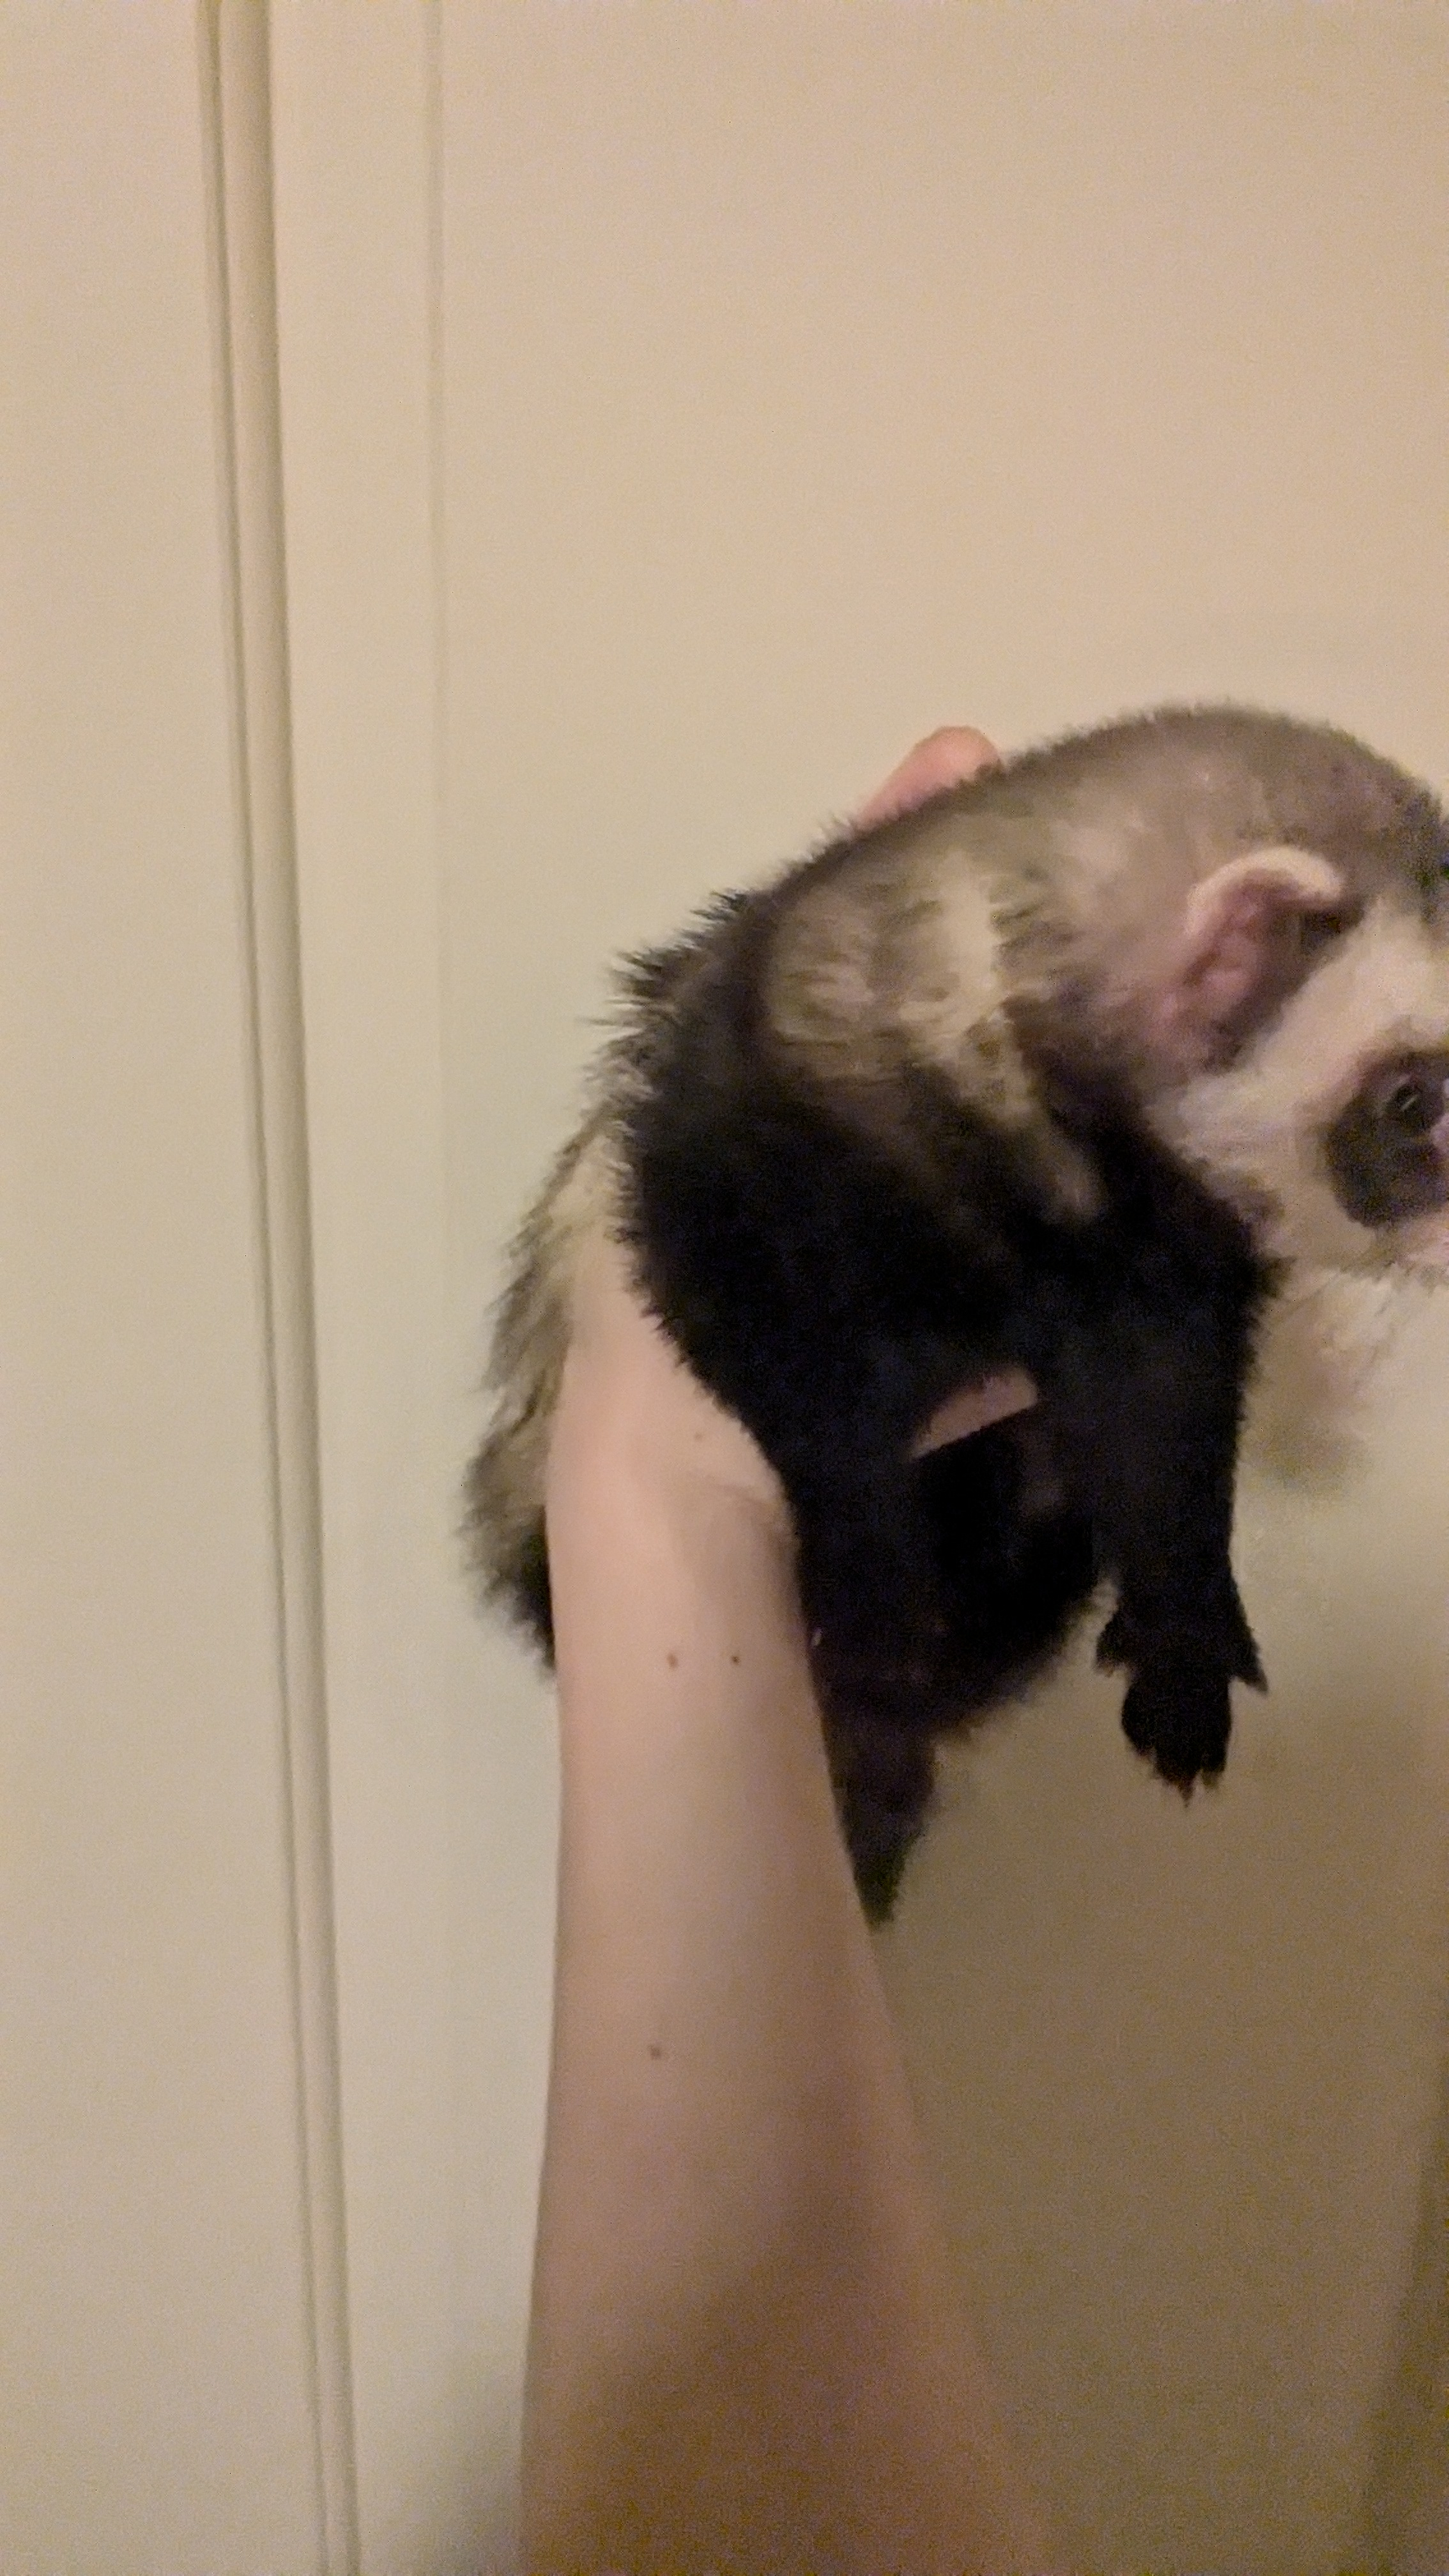Talulah: (455, 690, 1449, 1801)
